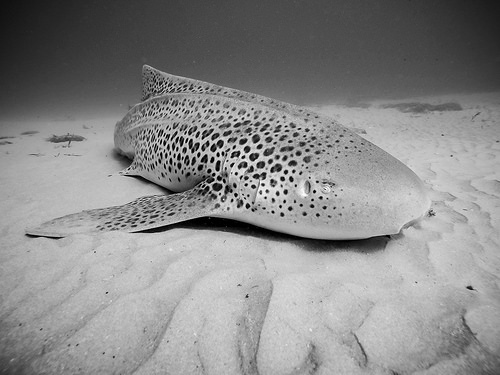shark: (16, 37, 460, 263)
